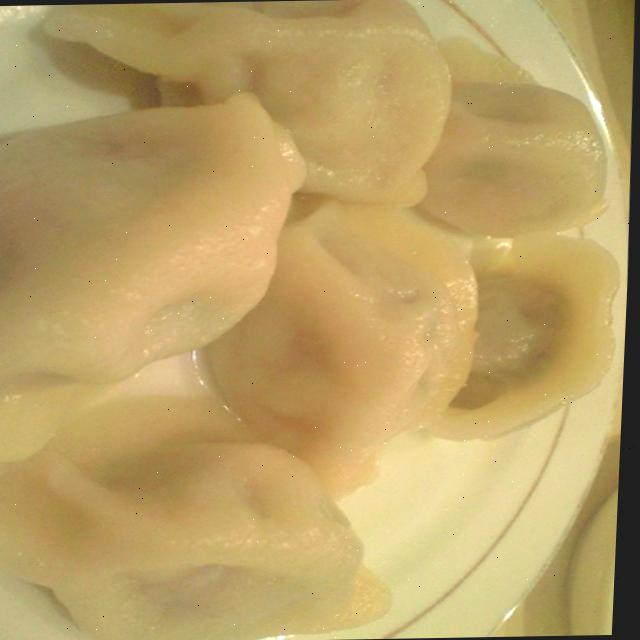带馅早点: (0, 0, 631, 637)
